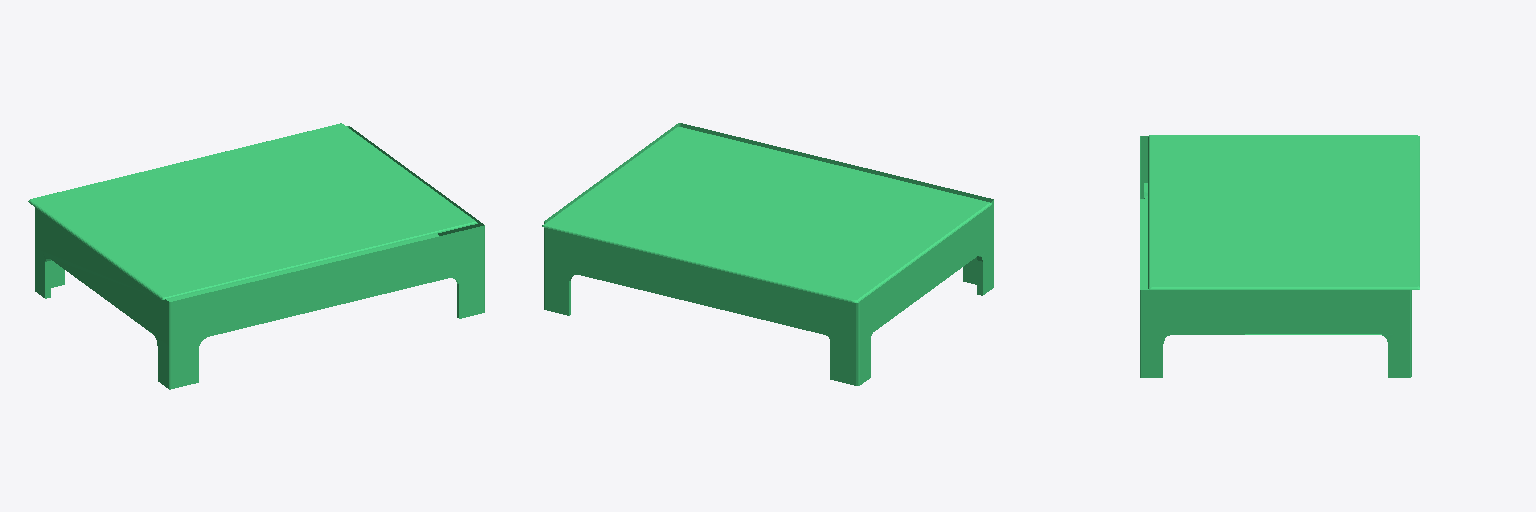
Rendered from table.obj.
The picture shows the model from 3 angles: view 1: azimuth 30°, elevation 25°; view 2: azimuth 150°, elevation 25°; view 3: azimuth 270°, elevation 25°; orthographic projection.
Visible parts, largest first — view 1: Object01, ????_01; view 2: Object01, ????_01; view 3: Object01, ????_01.
Part boxes in pixels (x1,y1,x2,y2): Object01: (28,123,477,299); ????_01: (35,126,484,389); Object01: (542,127,991,302); ????_01: (544,123,993,385); Object01: (1148,135,1419,289); ????_01: (1140,136,1411,377).
Size of the model in its own units: 1.24 by 0.3295 by 0.9465.